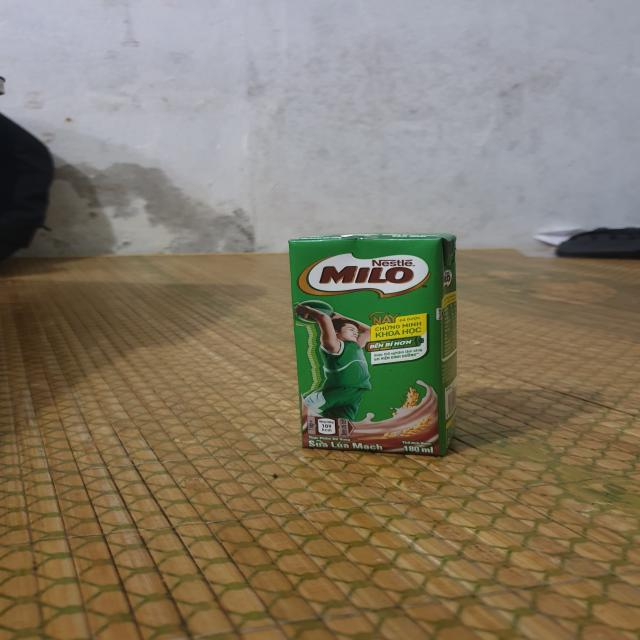Milo: (285, 230, 464, 464)
